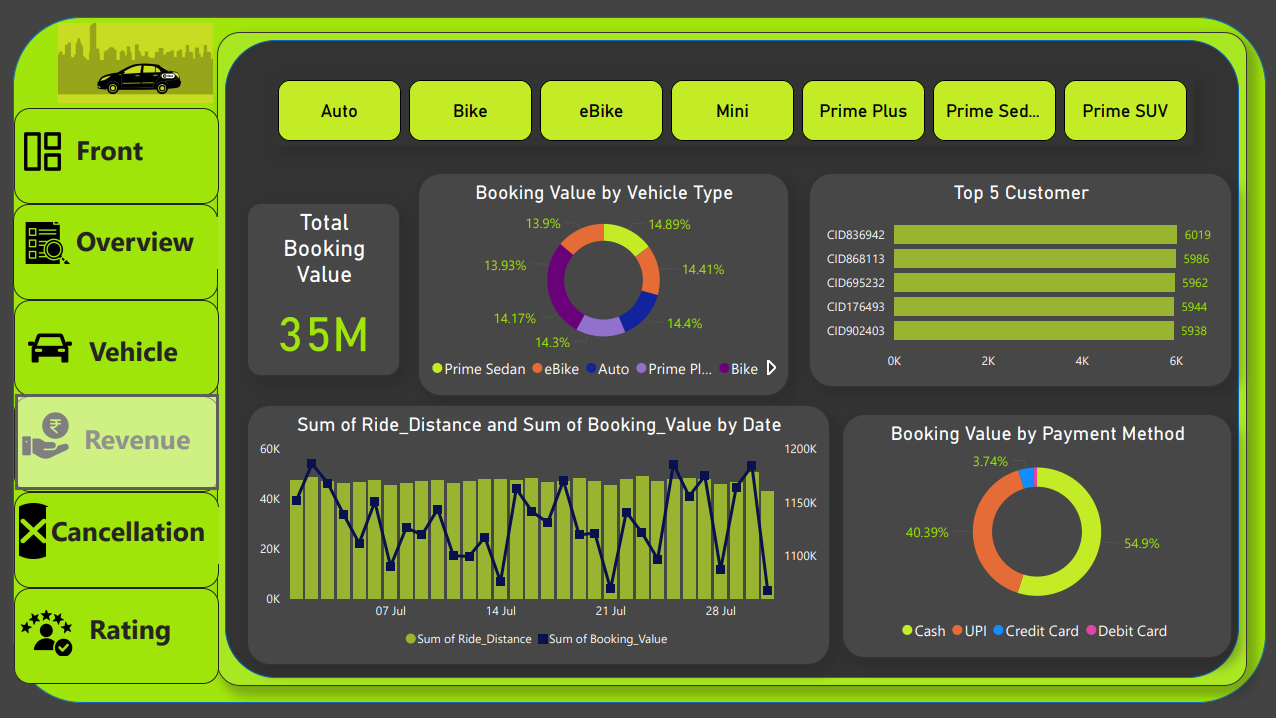

Layout of this report page (visuals, bound fields, positions):
{"tool":"powerbi","page":{"name":"Revenue Analysis","canvas":[1280,720],"ordinal":2},"visuals":[{"type":"shape","box":[12.3,8.6,1254,701.8],"z":0},{"type":"group","id":"g1","title":"Group 3","box":[264.8,37,256.6,100.2],"z":0,"group":"g4"},{"type":"shape","box":[264.8,37,256.6,98.4],"z":0,"group":"g1"},{"type":"shape","box":[546.9,38.4,273.6,99.9],"z":0,"group":"g3"},{"type":"shape","box":[847.3,40.4,268.9,98.4],"z":0,"group":"g2"},{"type":"shape","box":[231.9,18.4,1025.8,682.2],"z":1000},{"type":"group","id":"g2","title":"Group 1","box":[847.3,40.4,269,98.3],"z":1000,"group":"g4"},{"type":"card","title":"Total Revenue","fields":{"Values":["Sum(Booking.Booking_Value)"]},"box":[329,46.3,192.5,75.2],"z":1000,"group":"g1"},{"type":"card","title":"Average Customer Rating","fields":{"Values":["Avg(Booking.Customer_Rating)"]},"box":[615.3,47.8,205.2,76.4],"z":1000,"group":"g3"},{"type":"card","title":"Average Driver Rating","fields":{"Values":["Avg(Booking.Driver_Rating)"]},"box":[914.5,49.7,201.7,75.2],"z":1000,"group":"g2"},{"type":"image","box":[264.8,37,64.2,100.7],"z":2000,"group":"g1"},{"type":"group","id":"g3","title":"Group 2","box":[546.9,37.1,273.6,101.1],"z":2000,"group":"g4"},{"type":"image","box":[546.9,37.1,68.7,100.9],"z":2000,"group":"g3"},{"type":"image","box":[847.3,40.4,67.5,98.2],"z":2000,"group":"g2"},{"type":"lineStackedColumnComboChart","title":"Ride Distance and Booking Value Trend by Date","fields":{"Y":["Sum(Booking.Ride_Distance (Km))"],"Category":["Booking.Date"],"Y2":["Sum(Booking.Booking_Value)"]},"box":[581.8,410.3,655.9,263.5],"z":2000},{"type":"barChart","title":"Top 5 Customers","fields":{"Y":["Sum(Booking.Booking_Value)"],"Category":["Booking.Customer_ID"]},"box":[249.4,410.8,313.9,262.7],"z":3000},{"type":"pieChart","title":"Booking Revenue by Payment Method","fields":{"Y":["Sum(Booking.Booking_Value)"],"Category":["Booking.Payment_Method"]},"box":[819.5,182.3,391,207.3],"z":4000},{"type":"donutChart","title":"Booking Status","fields":{"Category":["Booking.Booking_Status"],"Y":["CountNonNull(Booking.Booking_ID)"]},"box":[278.6,182.5,511.8,205.8],"z":5000},{"type":"actionButton","box":[1144.8,46.6,74.8,81],"z":6000},{"type":"shape","box":[8.3,8.3,223.8,703],"z":7000},{"type":"shape","box":[12.7,9.7,219.4,103.2],"z":8000},{"type":"image","box":[13.9,11,218.2,103.2],"z":9000},{"type":"group","id":"g4","title":"Group 2","box":[264.8,37,851.5,101.8],"z":10000},{"type":"image","box":[20.9,371.5,62.6,101.6],"z":11000},{"type":"textbox","box":[73,371.4,147.4,84.6],"z":12000},{"type":"actionButton","box":[12.5,371.5,215.7,101.6],"z":13000},{"type":"image","box":[20.9,257.4,58.4,103],"z":14000},{"type":"textbox","box":[72.3,285.2,148.9,55.7],"z":15000},{"type":"actionButton","box":[12.5,257.4,214.3,101.6],"z":16000},{"type":"textbox","box":[89.6,490.2,130.8,86.8],"z":17000},{"type":"image","box":[23.5,483,61.9,102.7],"z":18000},{"type":"actionButton","box":[13.9,484.2,214.3,101.6],"z":19000},{"type":"image","box":[25.3,608.3,57,101.6],"z":20000},{"type":"textbox","box":[57,634.4,171.1,50.1],"z":21000},{"type":"actionButton","box":[12.5,598.3,214.3,101.6],"z":22000},{"type":"image","box":[19.5,140.5,75.1,100.2],"z":23000},{"type":"textbox","box":[91.8,164.2,112.7,51.5],"z":24000},{"type":"actionButton","box":[13.9,140.5,212.9,101.6],"z":25000}]}

Visuals, with their boxes in screenshot pixels (x1, y1, x2, y2), scaled from the page's 1280x720 canvas onto the 1276x718 screenshot:
shape: left=12, top=9, right=1262, bottom=708
"Group 3" group: left=264, top=37, right=520, bottom=137
shape: left=264, top=37, right=520, bottom=135
shape: left=545, top=38, right=818, bottom=138
shape: left=845, top=40, right=1113, bottom=138
shape: left=231, top=18, right=1254, bottom=699
"Group 1" group: left=845, top=40, right=1113, bottom=138
"Total Revenue" card: left=328, top=46, right=520, bottom=121
"Average Customer Rating" card: left=613, top=48, right=818, bottom=124
"Average Driver Rating" card: left=912, top=50, right=1113, bottom=125
image: left=264, top=37, right=328, bottom=137
"Group 2" group: left=545, top=37, right=818, bottom=138
image: left=545, top=37, right=614, bottom=138
image: left=845, top=40, right=912, bottom=138
"Ride Distance and Booking Value Trend by Date" lineStackedColumnComboChart: left=580, top=409, right=1234, bottom=672
"Top 5 Customers" barChart: left=249, top=410, right=562, bottom=672
"Booking Revenue by Payment Method" pieChart: left=817, top=182, right=1207, bottom=389
"Booking Status" donutChart: left=278, top=182, right=788, bottom=387
actionButton: left=1141, top=46, right=1216, bottom=127
shape: left=8, top=8, right=231, bottom=709
shape: left=13, top=10, right=231, bottom=113
image: left=14, top=11, right=231, bottom=114
"Group 2" group: left=264, top=37, right=1113, bottom=138
image: left=21, top=370, right=83, bottom=472
textbox: left=73, top=370, right=220, bottom=455
actionButton: left=12, top=370, right=227, bottom=472
image: left=21, top=257, right=79, bottom=359
textbox: left=72, top=284, right=221, bottom=340
actionButton: left=12, top=257, right=226, bottom=358
textbox: left=89, top=489, right=220, bottom=575
image: left=23, top=482, right=85, bottom=584
actionButton: left=14, top=483, right=227, bottom=584
image: left=25, top=607, right=82, bottom=708
textbox: left=57, top=633, right=227, bottom=683
actionButton: left=12, top=597, right=226, bottom=698
image: left=19, top=140, right=94, bottom=240
textbox: left=92, top=164, right=204, bottom=215
actionButton: left=14, top=140, right=226, bottom=241
